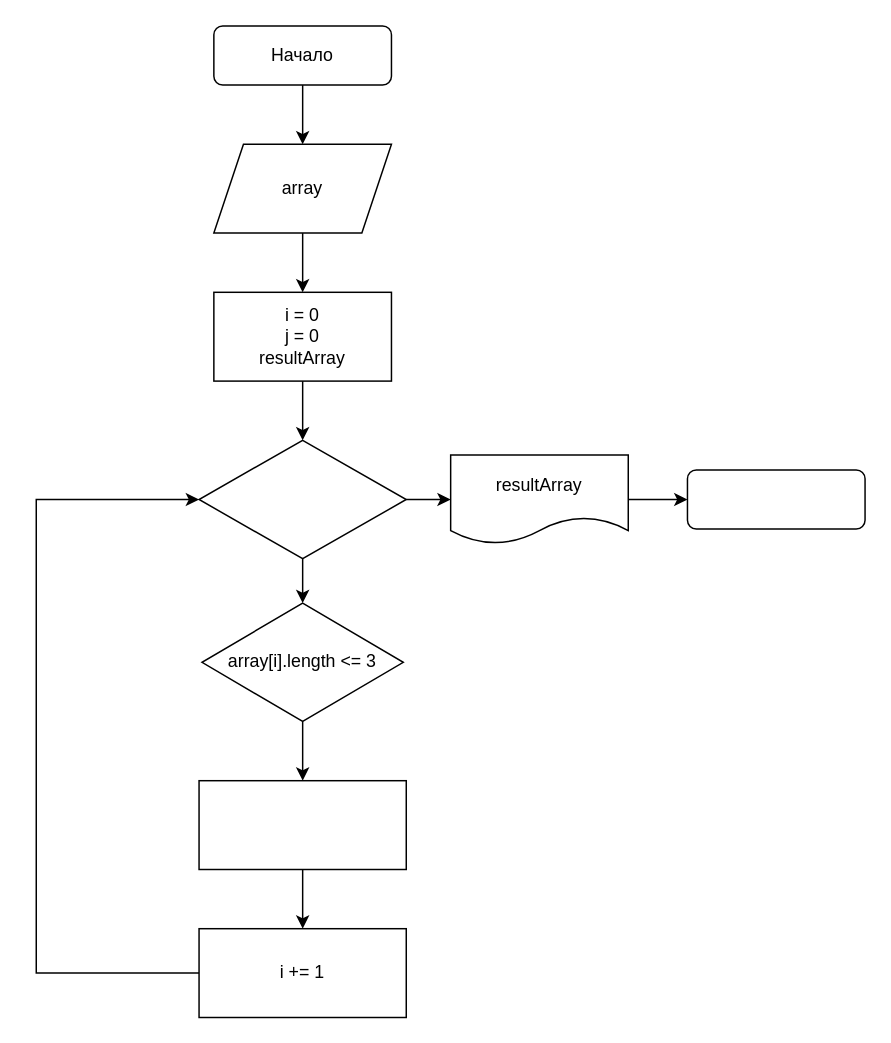
The diagram is 891 pixels wide and 1043 high, and some of its shapes have lost their labels. The centre of each missing label's shape, as x and y in pixels:
"i < array.length" belongs at (302,499).
"resultArray[j] = array[i] j += 1" belongs at (302,824).
"Конец" belongs at (775,498).
